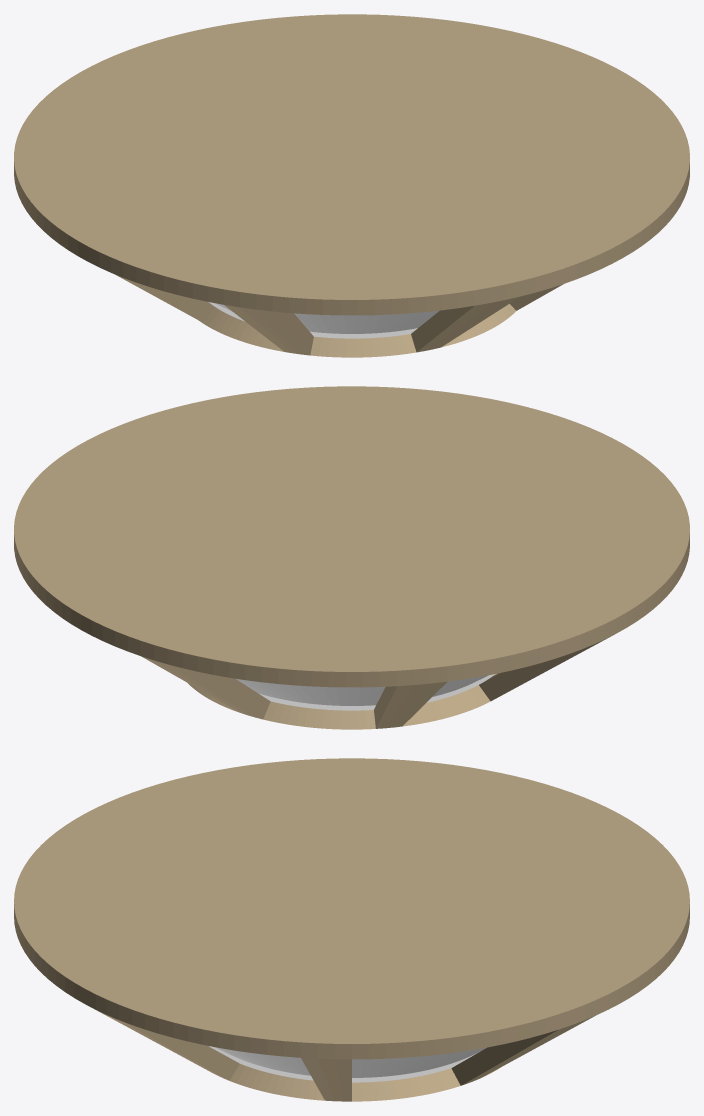
The model's file is sf_light_fixture.glb.
The picture shows the model from 3 angles, top to bottom: view 1: azimuth 30°, elevation 25°; view 2: azimuth 150°, elevation 25°; view 3: azimuth 270°, elevation 25°; orthographic projection.
Parts seen in each view (by area): view 1: Material.001, Material.003; view 2: Material.001, Material.003; view 3: Material.001, Material.003.
Part boxes in pixels (x1=…): Material.001: x1=14, y1=14, x2=689, y2=357; Material.003: x1=209, y1=302, x2=439, y2=338; Material.001: x1=14, y1=386, x2=689, y2=729; Material.003: x1=235, y1=674, x2=494, y2=710; Material.001: x1=14, y1=758, x2=689, y2=1101; Material.003: x1=209, y1=1046, x2=486, y2=1082.
Bounding box in the file's own units: 0.7366 × 0.1524 × 0.7366.
